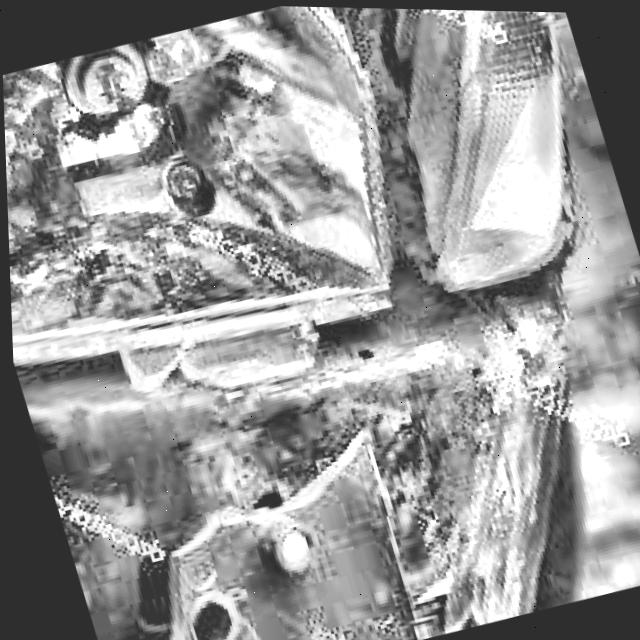head_lamp: (0, 0, 640, 451)
